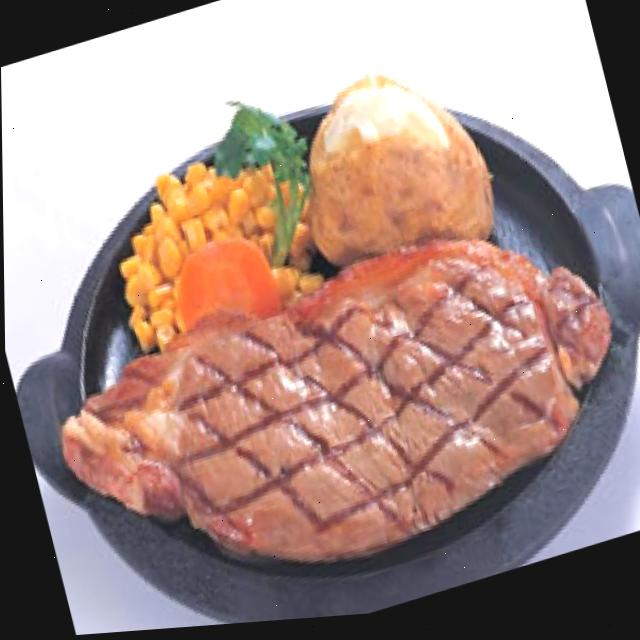牛肉菜式: (30, 181, 640, 638)
